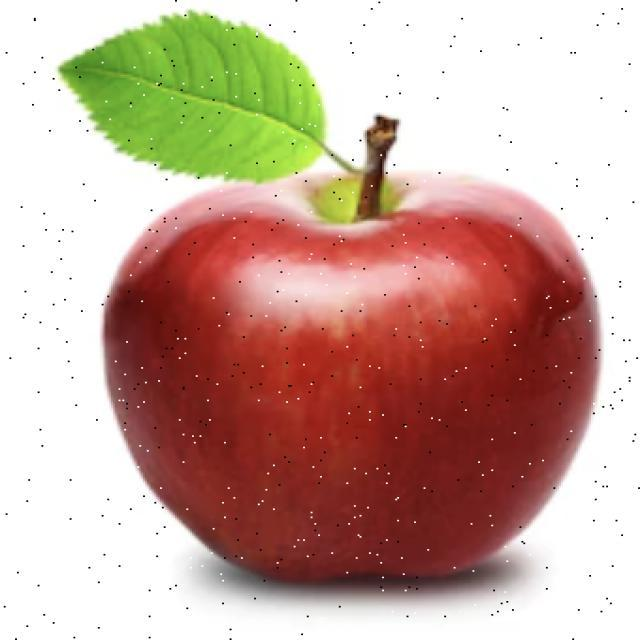Fresh Apple: (87, 180, 603, 582)
